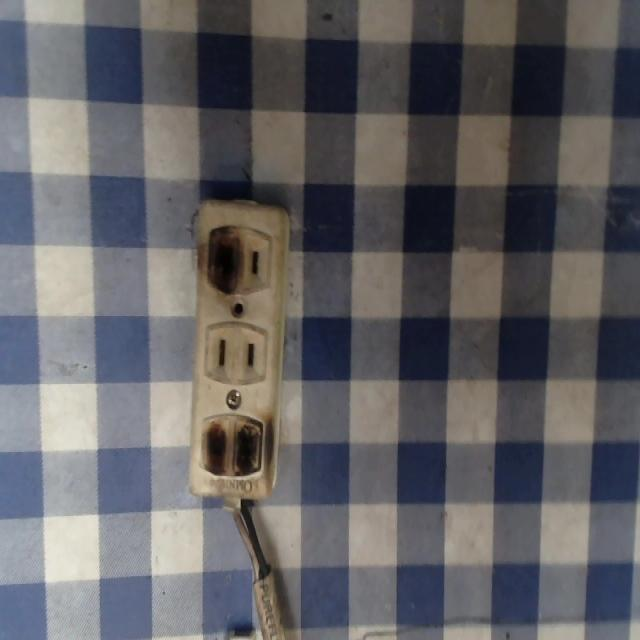-: (199, 410, 276, 490), (201, 221, 252, 300)
